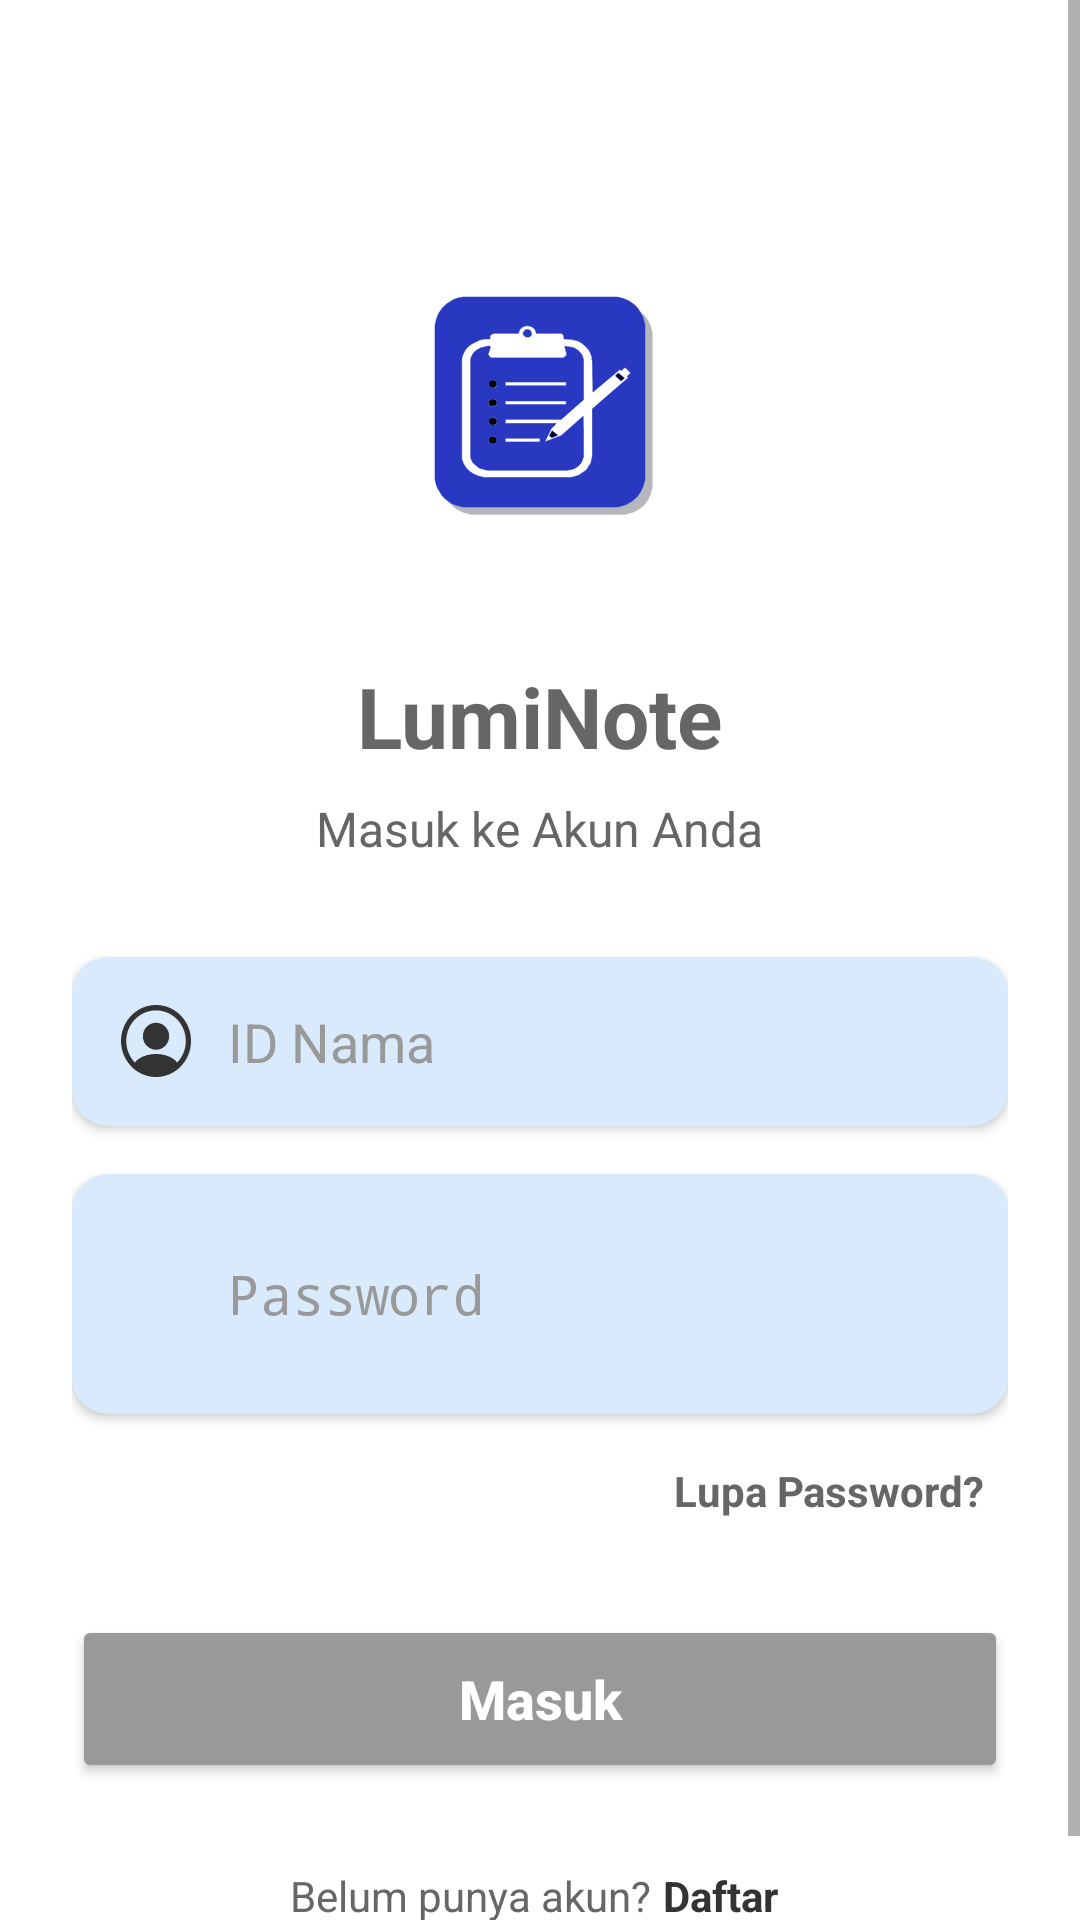

Named icons in this screenshot (1080 × 1920) and their bounding boxes, bbox=(x1, y1, x2, y2):
Ikon ID: bbox=(121, 1005, 191, 1077)
